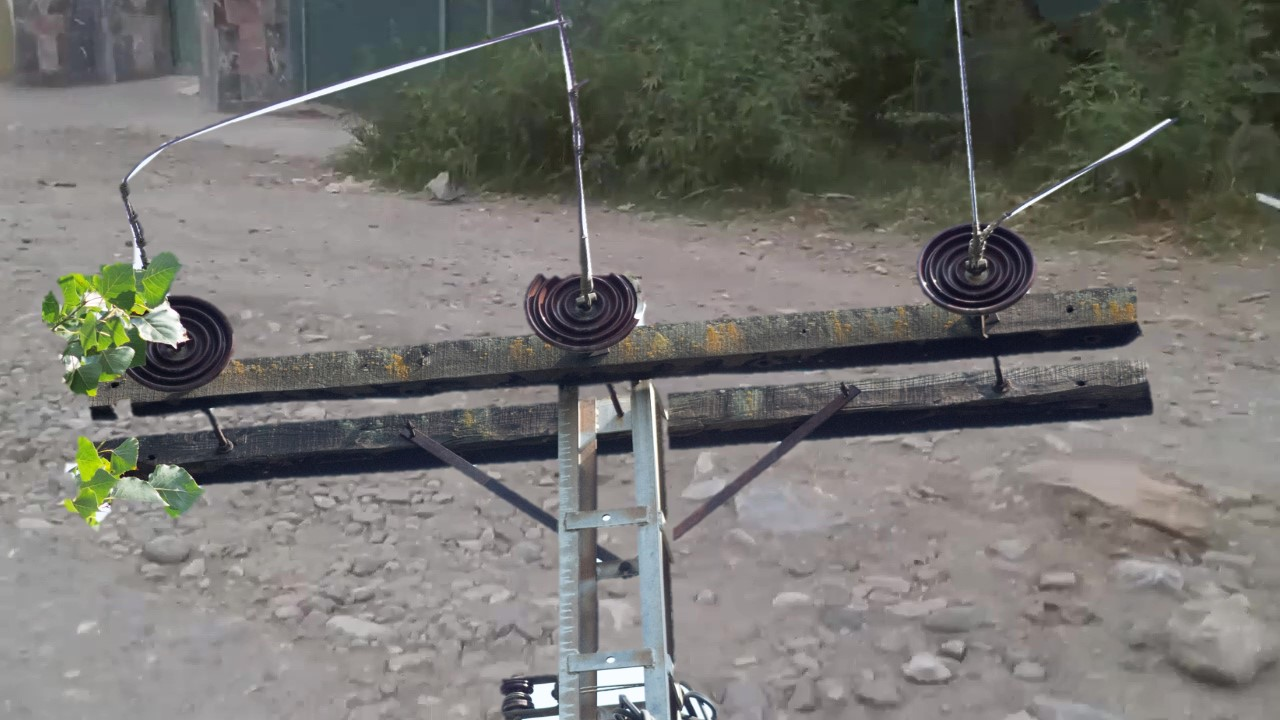defect_disc: (522, 259, 651, 359)
insulator_disc: (917, 218, 1041, 318), (139, 291, 243, 392)
